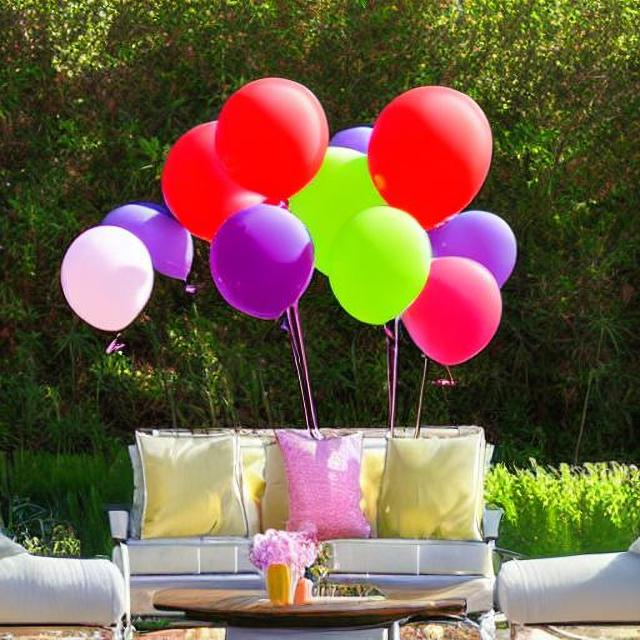balloon: (32, 65, 540, 374)
